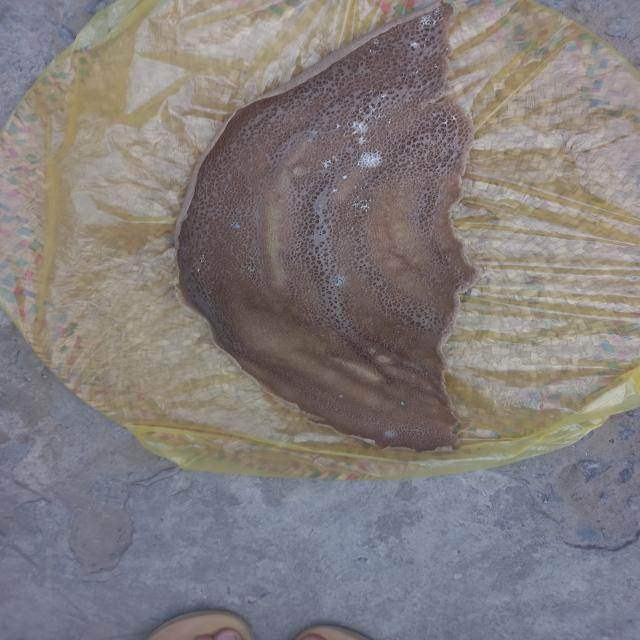injera_mold: (356, 150, 384, 168), (350, 121, 368, 147), (351, 198, 373, 212), (357, 104, 378, 115), (192, 254, 205, 271), (418, 16, 435, 27), (329, 275, 346, 286), (321, 158, 335, 169), (408, 40, 420, 51), (430, 6, 444, 15), (230, 220, 240, 232), (383, 429, 395, 439), (340, 173, 351, 182), (309, 129, 320, 137), (377, 92, 389, 99), (246, 266, 255, 275), (432, 62, 442, 70), (371, 38, 382, 45), (449, 113, 457, 122), (385, 118, 396, 124), (366, 437, 373, 446), (372, 115, 383, 120), (334, 122, 340, 131), (365, 48, 375, 53), (361, 184, 366, 193), (331, 187, 338, 193), (437, 16, 444, 22), (338, 394, 346, 399), (442, 120, 448, 126), (400, 401, 406, 407), (431, 112, 437, 117), (367, 90, 374, 94), (353, 185, 358, 190), (414, 70, 420, 74), (444, 47, 450, 51), (363, 95, 371, 98), (386, 112, 393, 115), (396, 26, 401, 30), (418, 97, 422, 101), (410, 161, 414, 165), (412, 217, 417, 220), (425, 372, 428, 376), (350, 227, 354, 230), (354, 214, 358, 217), (390, 30, 394, 33), (422, 30, 426, 33), (405, 25, 408, 29), (366, 170, 370, 173), (339, 159, 343, 162), (359, 169, 363, 172), (400, 185, 404, 188), (344, 131, 346, 137), (394, 103, 397, 107), (422, 44, 427, 46), (364, 183, 369, 185), (363, 174, 365, 179), (365, 118, 370, 120), (420, 85, 423, 88), (397, 56, 400, 59), (424, 38, 427, 41), (389, 99, 392, 102), (386, 177, 388, 181), (402, 72, 406, 74), (380, 110, 384, 112), (384, 186, 387, 188), (430, 94, 433, 96), (404, 78, 407, 80), (373, 58, 375, 61), (412, 72, 414, 74), (386, 44, 388, 46), (392, 88, 395, 89), (383, 49, 384, 52)
